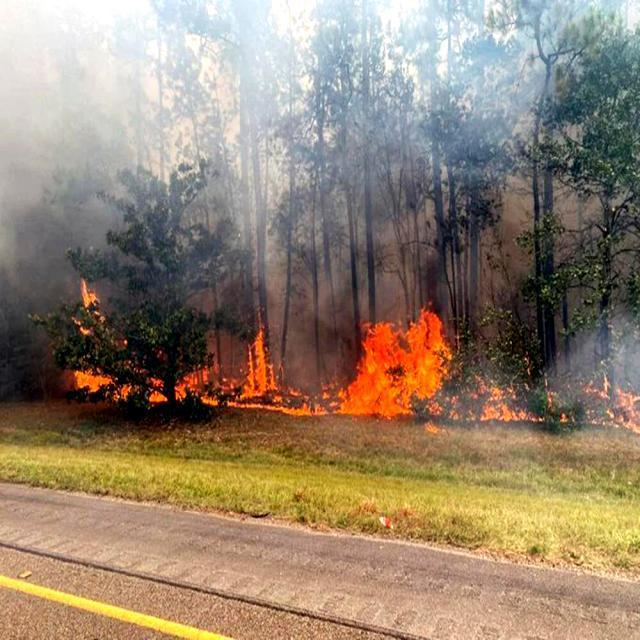Fire: (61, 284, 295, 412), (335, 302, 524, 430)
Smoke: (0, 0, 586, 295)
